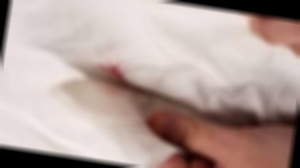lipstick: (90, 55, 136, 91)
